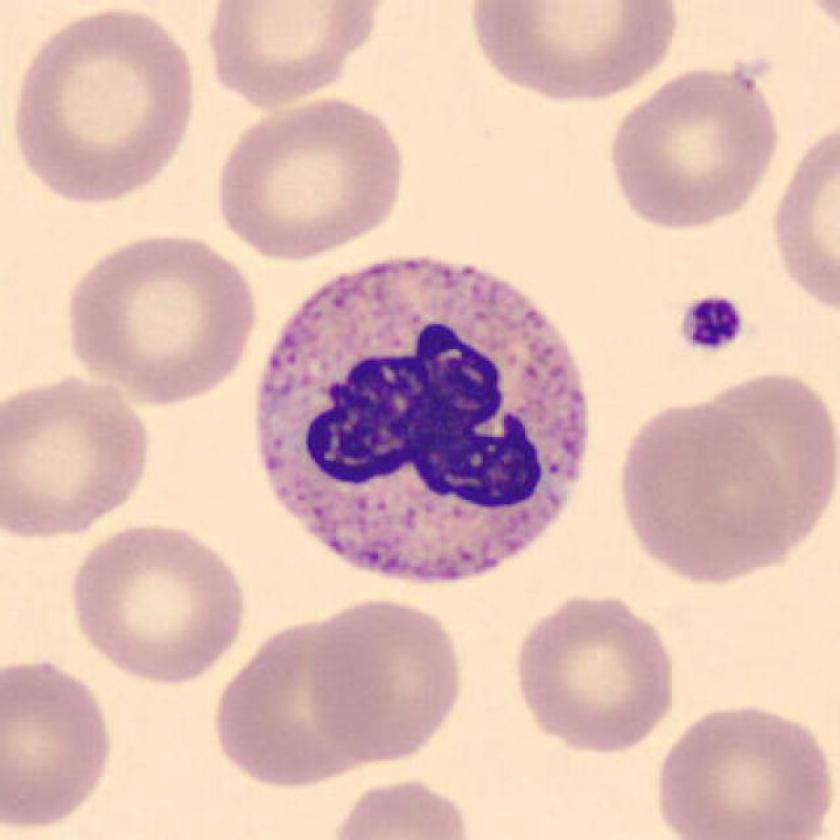neutrophil: (260, 257, 589, 580)
